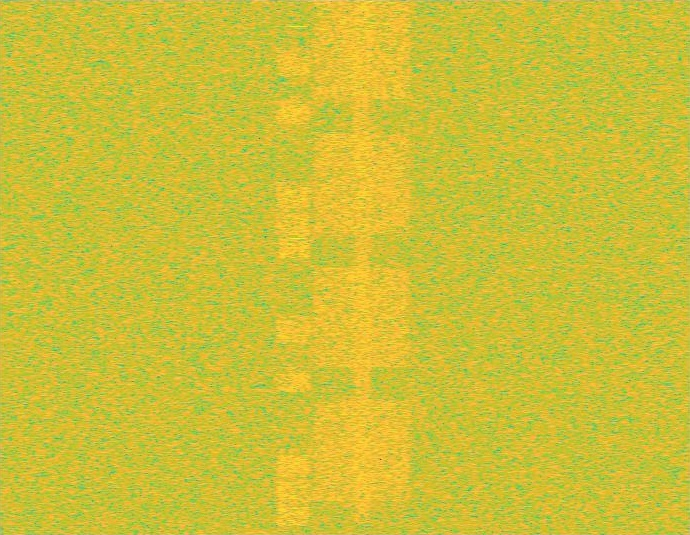5G: (311, 0, 414, 534)
DSSS: (351, 0, 374, 534)
LTE: (276, 0, 311, 534)
Radar: (290, 0, 303, 534)
